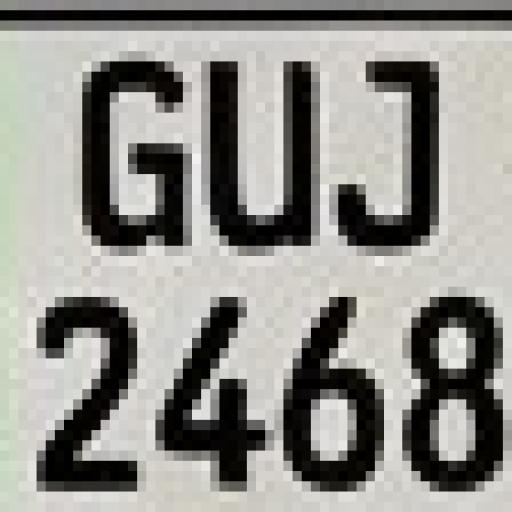2: (24, 289, 146, 495)
4: (154, 288, 268, 503)
6: (282, 286, 384, 512)
8: (392, 285, 512, 512)
G: (68, 54, 198, 254)
J: (337, 47, 454, 261)
U: (204, 56, 321, 250)
